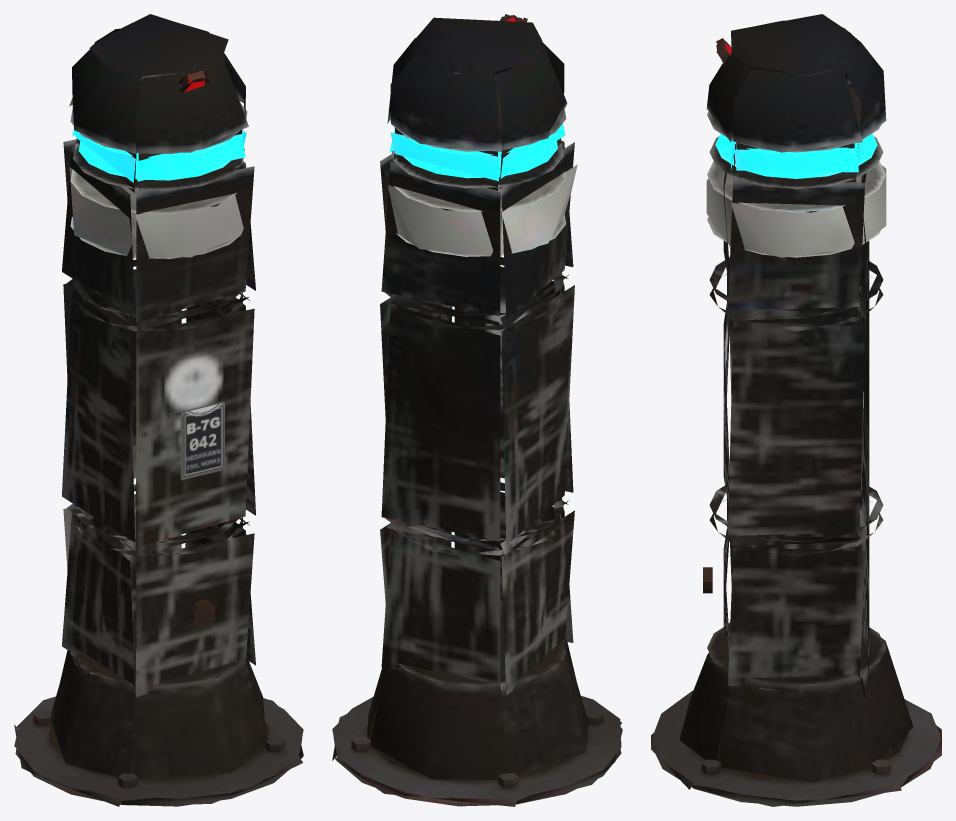
Rendered from bollard_lod1.glb.
3 views of the same model, side by side, from view 1: azimuth 30°, elevation 25°; view 2: azimuth 150°, elevation 25°; view 3: azimuth 270°, elevation 25° (orthographic).
Visible parts, largest first — view 1: bollard; view 2: bollard; view 3: bollard.
Part boxes in pixels (<box>): bollard: <box>14,14,303,806</box>; bollard: <box>332,14,622,806</box>; bollard: <box>651,14,941,806</box>.
Size of what is drawn, in the model's own units: 0.3512 by 0.9591 by 0.3512.
1 material, 1 textured.
